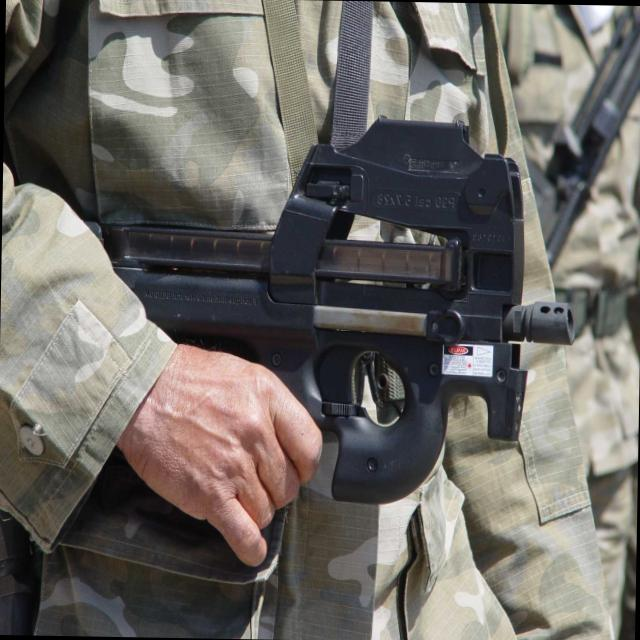Gun: (0, 132, 570, 588)
